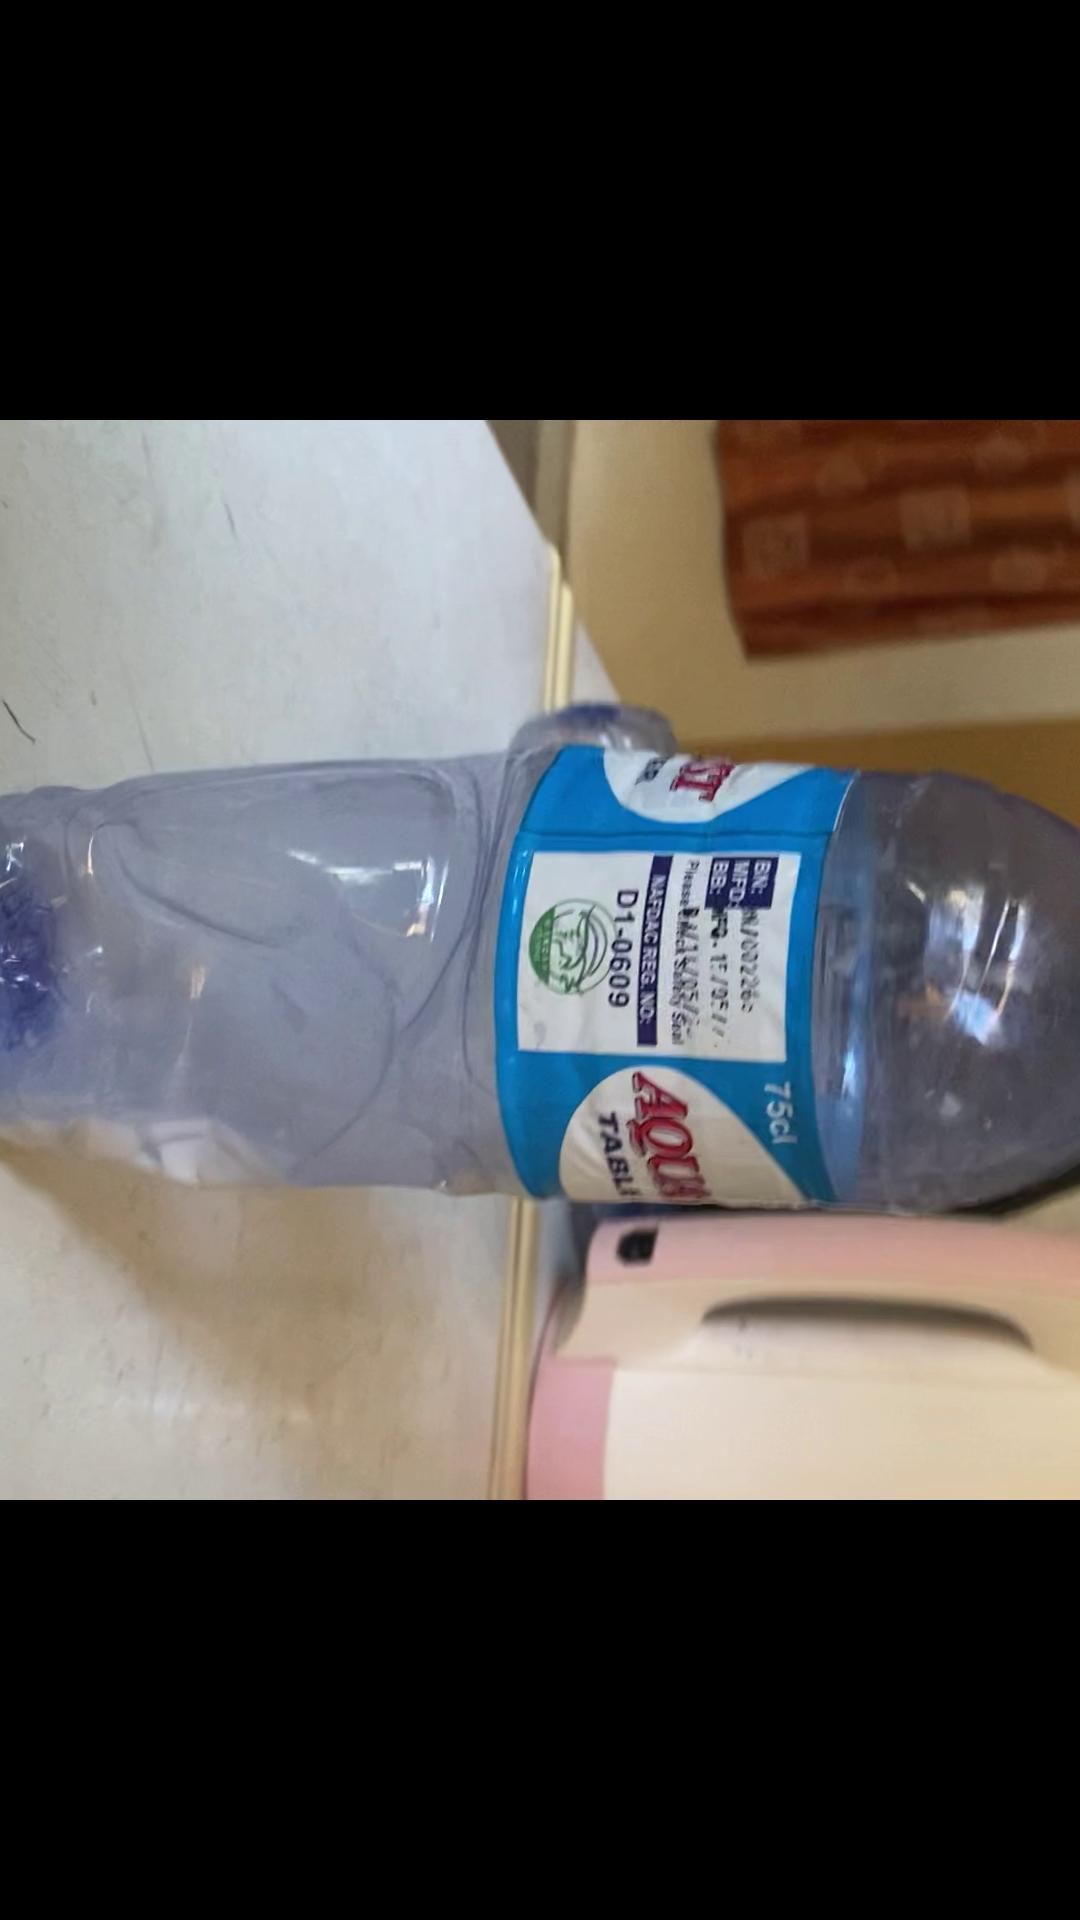crumbled: (0, 737, 1080, 1221)
label: (495, 761, 847, 1207)
